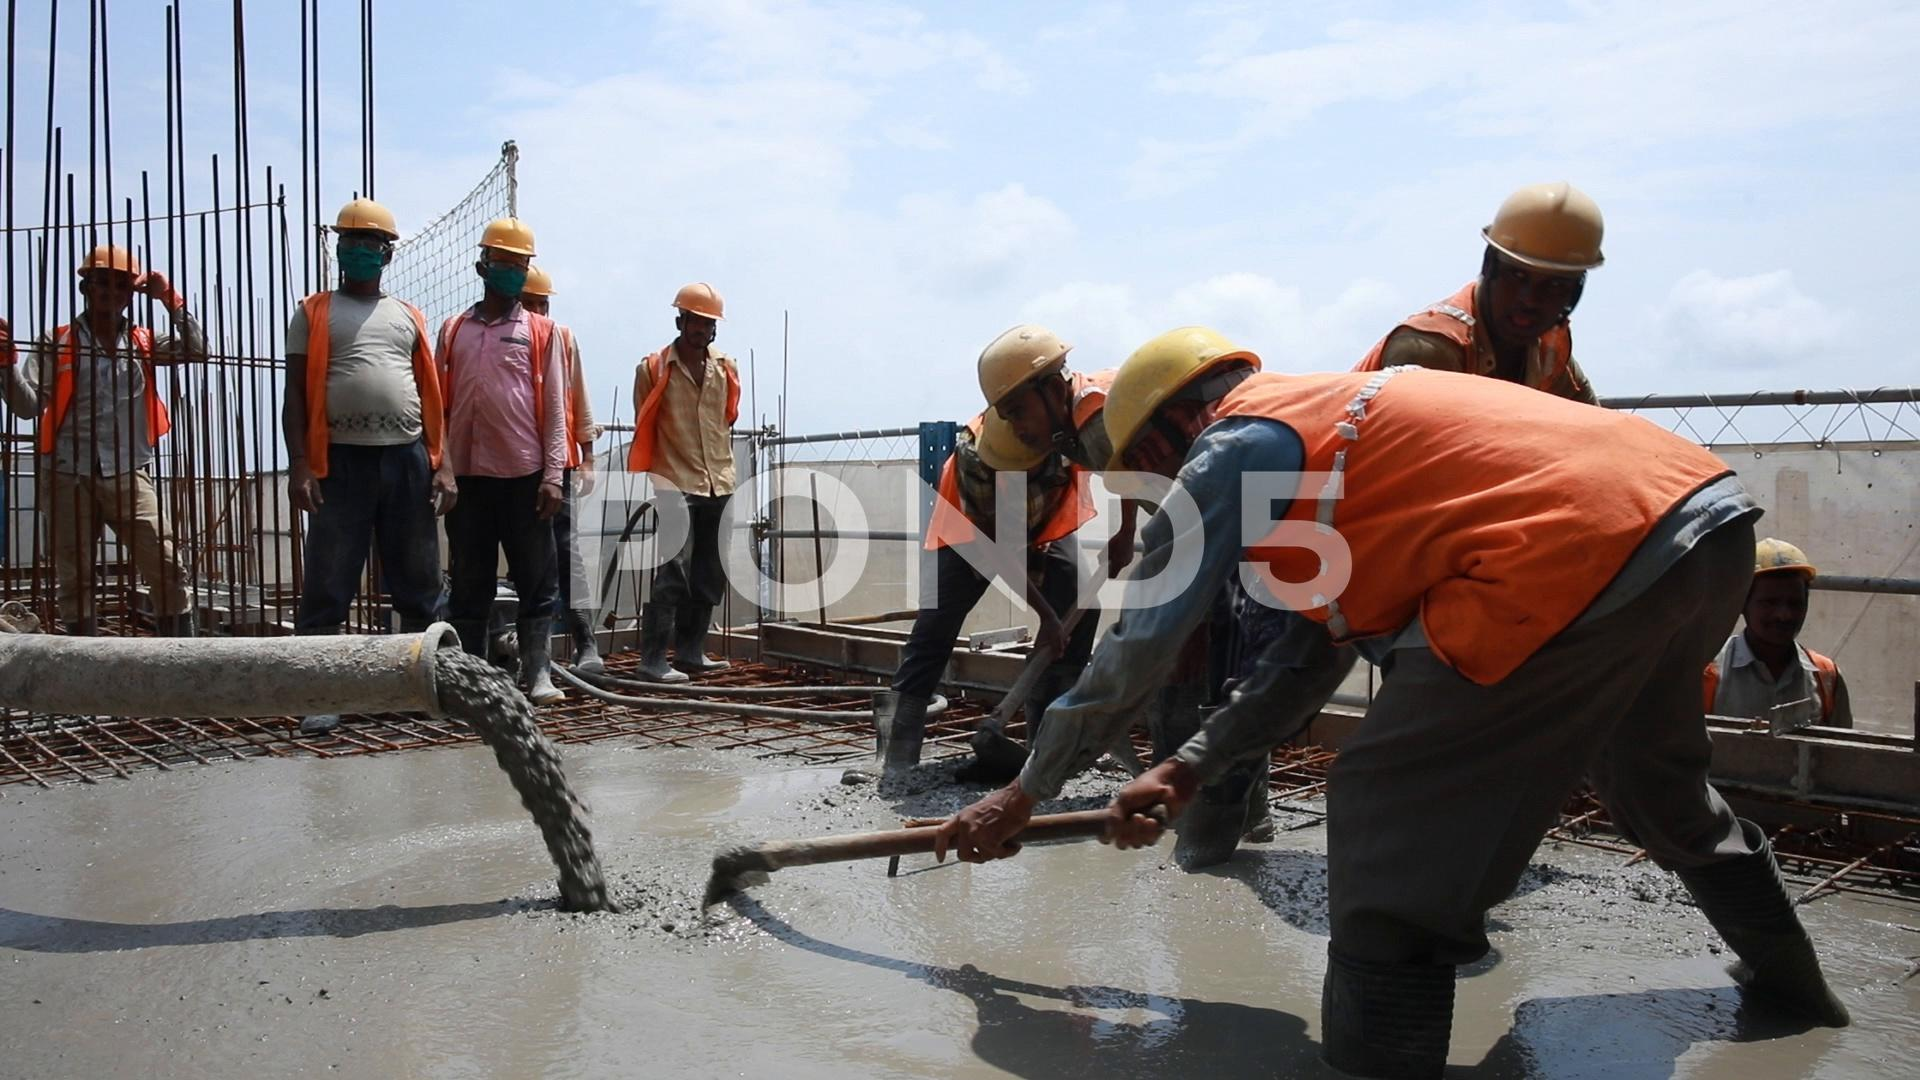hat: (1456, 127, 1631, 376), (1084, 299, 1286, 509), (1721, 498, 1834, 674), (967, 314, 1095, 446), (287, 167, 414, 301), (956, 386, 1073, 521), (448, 191, 541, 348), (65, 200, 161, 351), (649, 255, 741, 356), (512, 239, 582, 331)
vest: (1216, 359, 1745, 719), (1341, 272, 1673, 421), (247, 299, 456, 524), (919, 421, 1109, 607), (32, 299, 211, 495), (1034, 280, 1166, 526), (611, 345, 786, 526), (425, 306, 571, 520), (1673, 636, 1880, 766), (529, 316, 609, 520)
